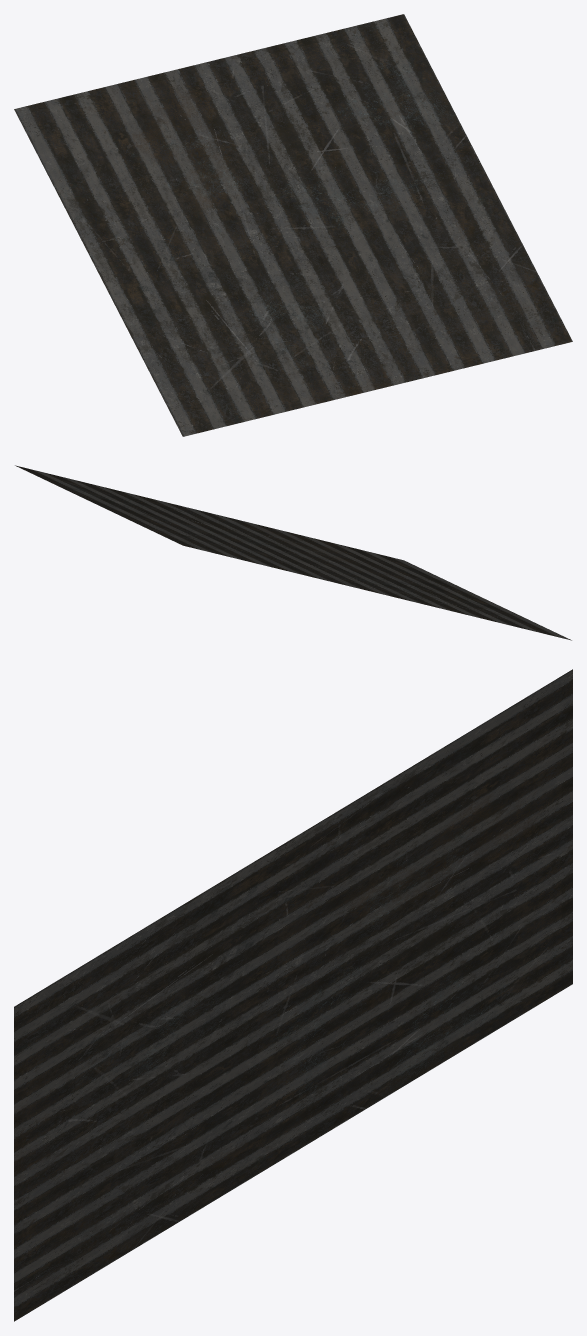
The model's file is roof_Large.fbx.
The picture shows the model from 3 angles, top to bottom: view 1: azimuth 30°, elevation 25°; view 2: azimuth 150°, elevation 25°; view 3: azimuth 270°, elevation 25°; orthographic projection. The views are drawn at different scales.
Parts seen in each view (by area): view 1: roof_Large; view 2: roof_Large; view 3: roof_Large.
Part boxes in pixels (bbox=[...]): roof_Large: bbox=[14, 14, 572, 436]; roof_Large: bbox=[15, 465, 571, 640]; roof_Large: bbox=[14, 669, 572, 1321].
Bounding box in the file's own units: 400 × 200 × 300.
